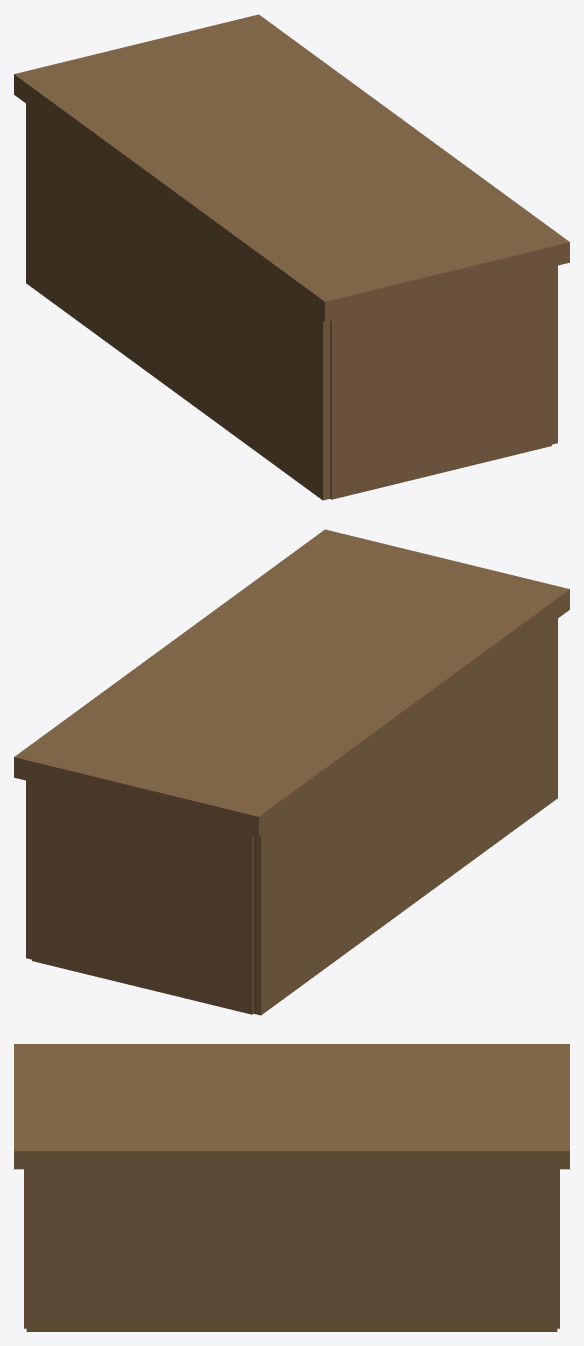
Rendered from van-step.glb.
The picture shows the model from 3 angles, top to bottom: view 1: azimuth 30°, elevation 25°; view 2: azimuth 150°, elevation 25°; view 3: azimuth 270°, elevation 25°; orthographic projection. The views are drawn at different scales.
Visible parts, largest first — view 1: van-step; view 2: van-step; view 3: van-step.
Boxes of the visible parts, x1,y1,x2,y2 form: van-step: (14, 14, 569, 500); van-step: (14, 529, 569, 1015); van-step: (14, 1044, 569, 1331).
Size of the model in its own units: 1 by 0.8 by 2.2.
